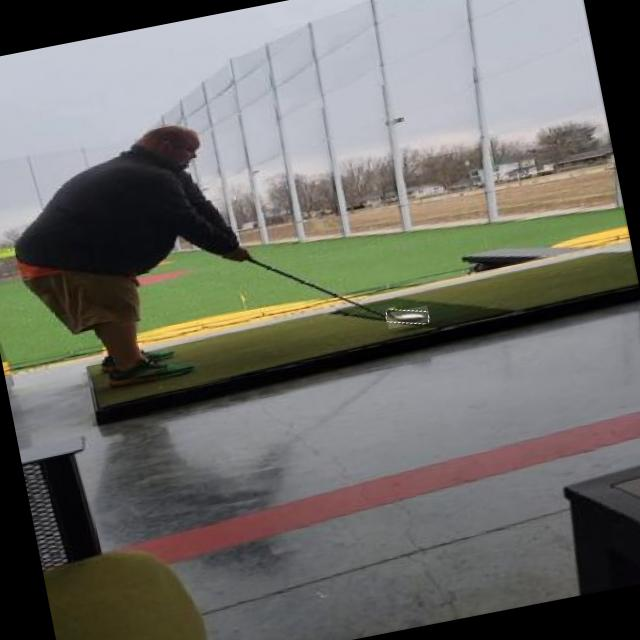club head: (386, 305, 430, 329)
